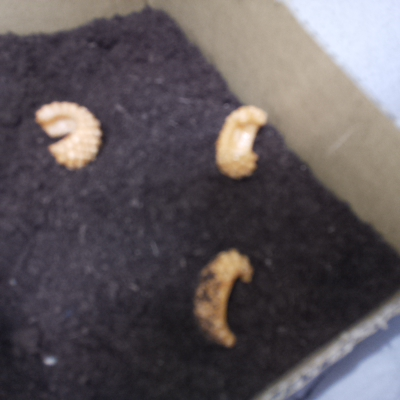eggs: (182, 247, 257, 349), (207, 101, 276, 183), (33, 101, 105, 169)
